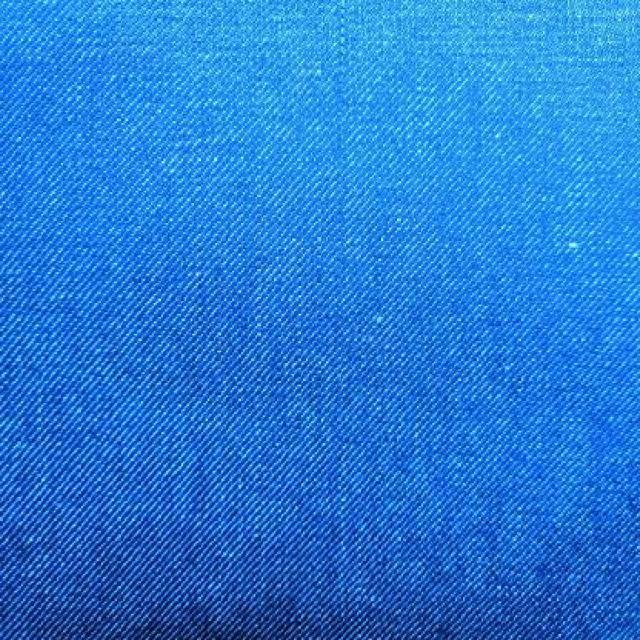pulled_or_thick_thread: (321, 4, 364, 436)
